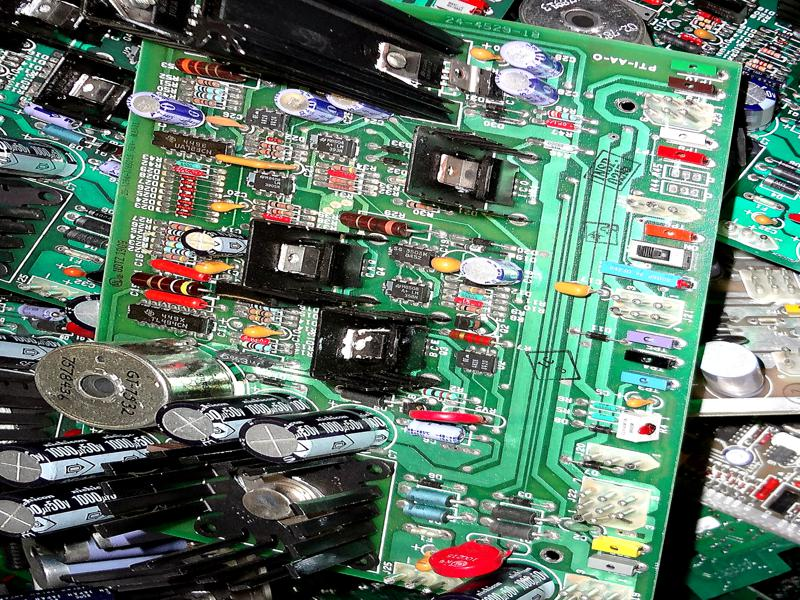Capacitor: (1, 427, 162, 498), (1, 471, 141, 541), (153, 392, 316, 450), (237, 405, 391, 466), (430, 562, 558, 600), (1, 133, 78, 180), (126, 91, 204, 129), (273, 87, 346, 127), (729, 78, 779, 135), (497, 38, 564, 80), (493, 67, 559, 107), (326, 89, 396, 121), (19, 97, 84, 130), (1, 337, 64, 371), (181, 228, 249, 259), (460, 255, 523, 287), (65, 293, 101, 331), (16, 302, 66, 323), (721, 446, 755, 468), (96, 159, 123, 178)
Diode: (63, 225, 108, 250), (71, 214, 112, 237), (761, 174, 800, 197), (768, 164, 800, 183), (85, 207, 113, 223), (256, 375, 287, 389), (466, 236, 498, 249), (583, 330, 612, 344), (584, 421, 613, 435), (507, 494, 533, 508), (376, 154, 403, 167), (416, 478, 445, 490), (576, 459, 603, 471), (761, 42, 785, 55), (381, 143, 404, 155), (750, 51, 773, 63), (773, 28, 794, 41), (480, 102, 507, 112), (479, 110, 502, 120), (176, 185, 201, 194), (178, 173, 202, 182), (177, 179, 200, 188), (175, 192, 198, 200), (175, 199, 197, 207), (174, 209, 193, 218), (175, 203, 196, 211)
Resistor: (337, 210, 416, 239), (174, 55, 250, 83), (128, 271, 208, 297), (448, 329, 497, 347), (418, 386, 460, 402), (405, 200, 440, 213), (692, 12, 720, 28), (238, 340, 272, 353), (546, 109, 578, 121), (690, 18, 717, 32), (194, 90, 225, 102), (749, 56, 775, 70), (324, 181, 357, 192), (167, 221, 198, 232), (192, 97, 222, 108), (257, 140, 286, 151), (256, 148, 285, 159), (266, 199, 295, 210), (162, 246, 193, 256), (194, 85, 224, 95), (743, 60, 768, 72), (195, 77, 222, 88), (161, 252, 190, 262), (327, 176, 356, 186), (760, 45, 781, 58), (331, 163, 358, 173), (459, 285, 488, 294), (456, 304, 482, 314), (247, 307, 273, 316), (268, 207, 294, 216), (247, 315, 271, 324), (162, 241, 185, 249), (265, 135, 284, 144), (165, 228, 186, 236), (165, 234, 182, 242)
